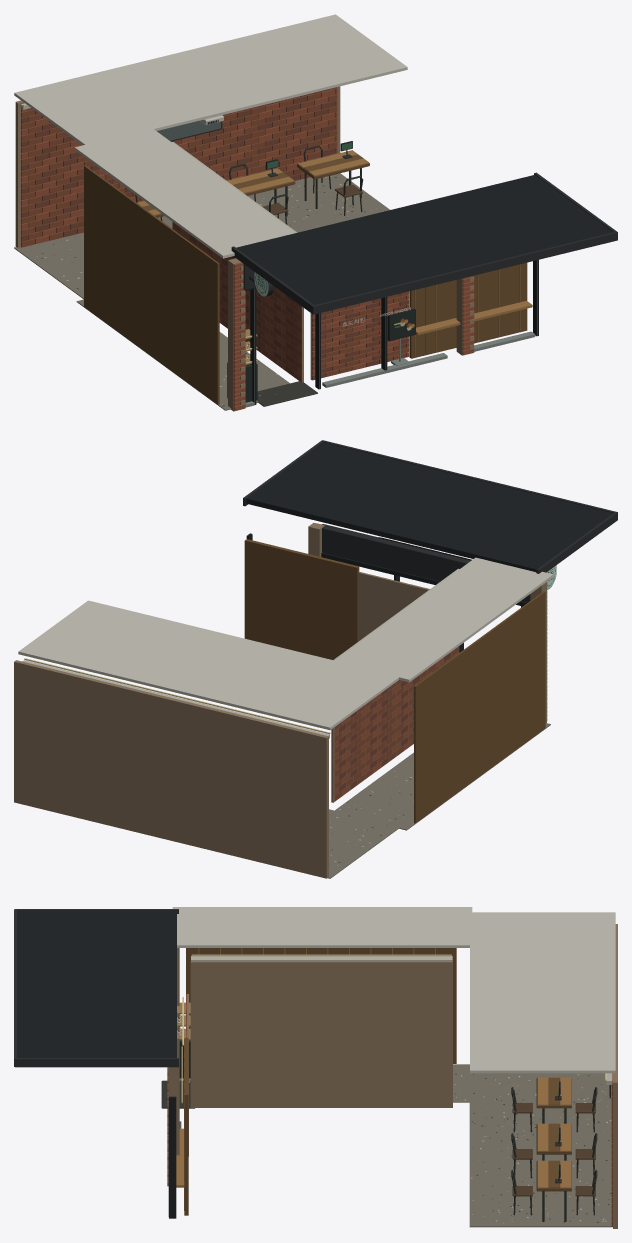
The model's file is shop.glb.
The picture shows the model from 3 angles, top to bottom: view 1: azimuth 30°, elevation 25°; view 2: azimuth 150°, elevation 25°; view 3: azimuth 270°, elevation 25°; orthographic projection. The views are drawn at different scales.
Visible parts, largest first — view 1: Surface; view 2: Surface; view 3: Surface.
Part boxes in pixels (x1,y1,x2,y2): Surface: [14, 14, 617, 411]; Surface: [14, 440, 617, 878]; Surface: [14, 907, 617, 1228].
Size of the model in its own units: 7.09 by 3.24 by 10.96.
